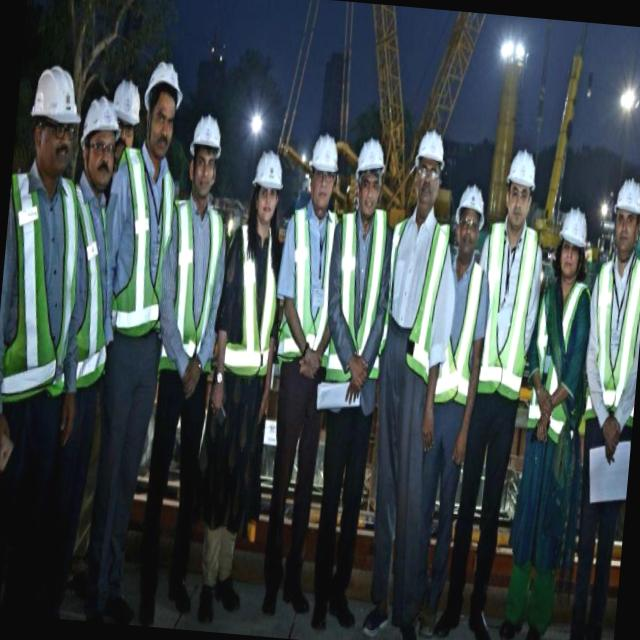helmet: (26, 66, 85, 134), (143, 50, 186, 104), (453, 176, 490, 224), (308, 132, 342, 182), (252, 146, 286, 194), (558, 204, 592, 252), (108, 83, 144, 128), (504, 146, 538, 193), (81, 91, 117, 135), (187, 116, 226, 156), (351, 136, 390, 175), (415, 125, 448, 167), (612, 173, 640, 221)
vest: (0, 171, 73, 413), (320, 198, 391, 424), (106, 154, 176, 363), (469, 224, 542, 412), (378, 211, 448, 389), (160, 204, 226, 384), (522, 276, 590, 450), (276, 205, 342, 384), (216, 222, 286, 388), (584, 251, 640, 453), (63, 192, 111, 398), (432, 250, 487, 412)
